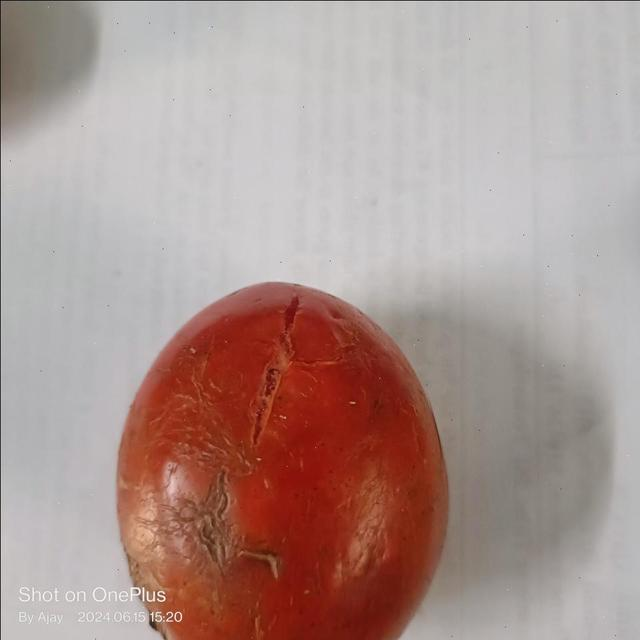Cracking Fruit: (153, 298, 190, 390)
